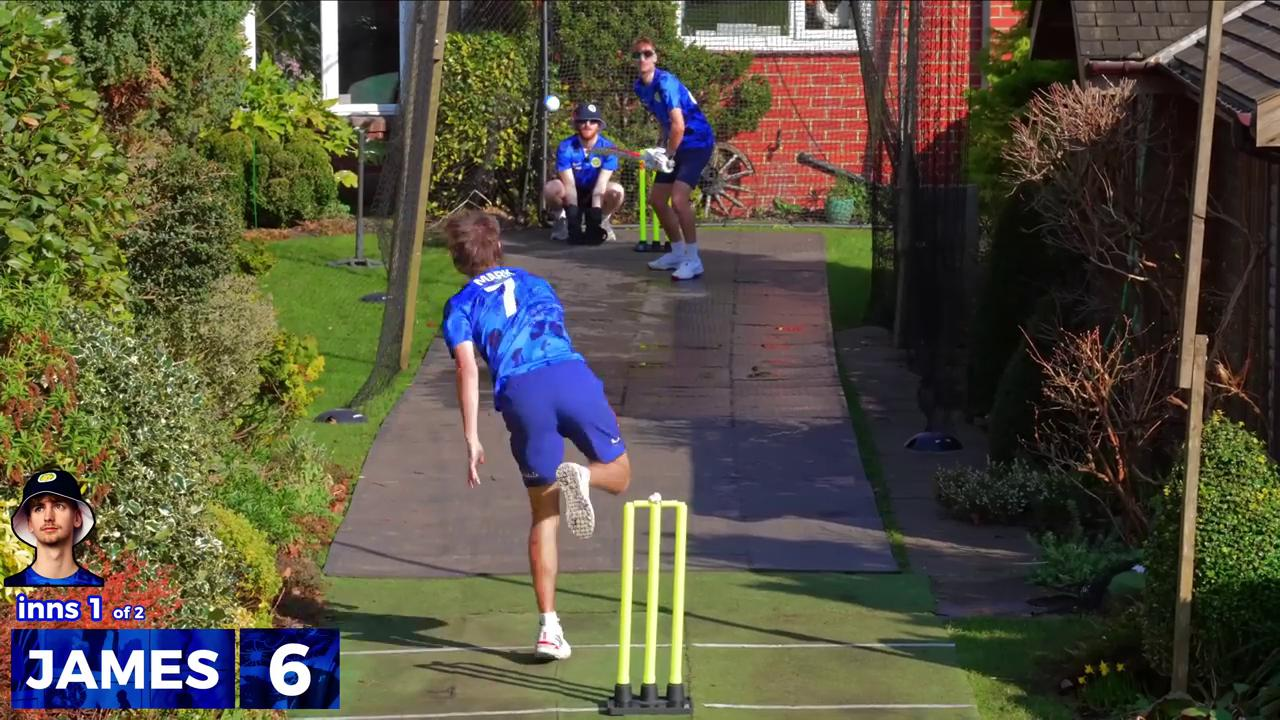ball: (536, 79, 570, 118)
